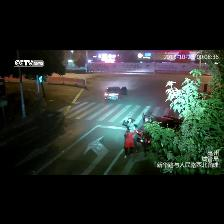person: (125, 129, 137, 158), (123, 118, 137, 132)
